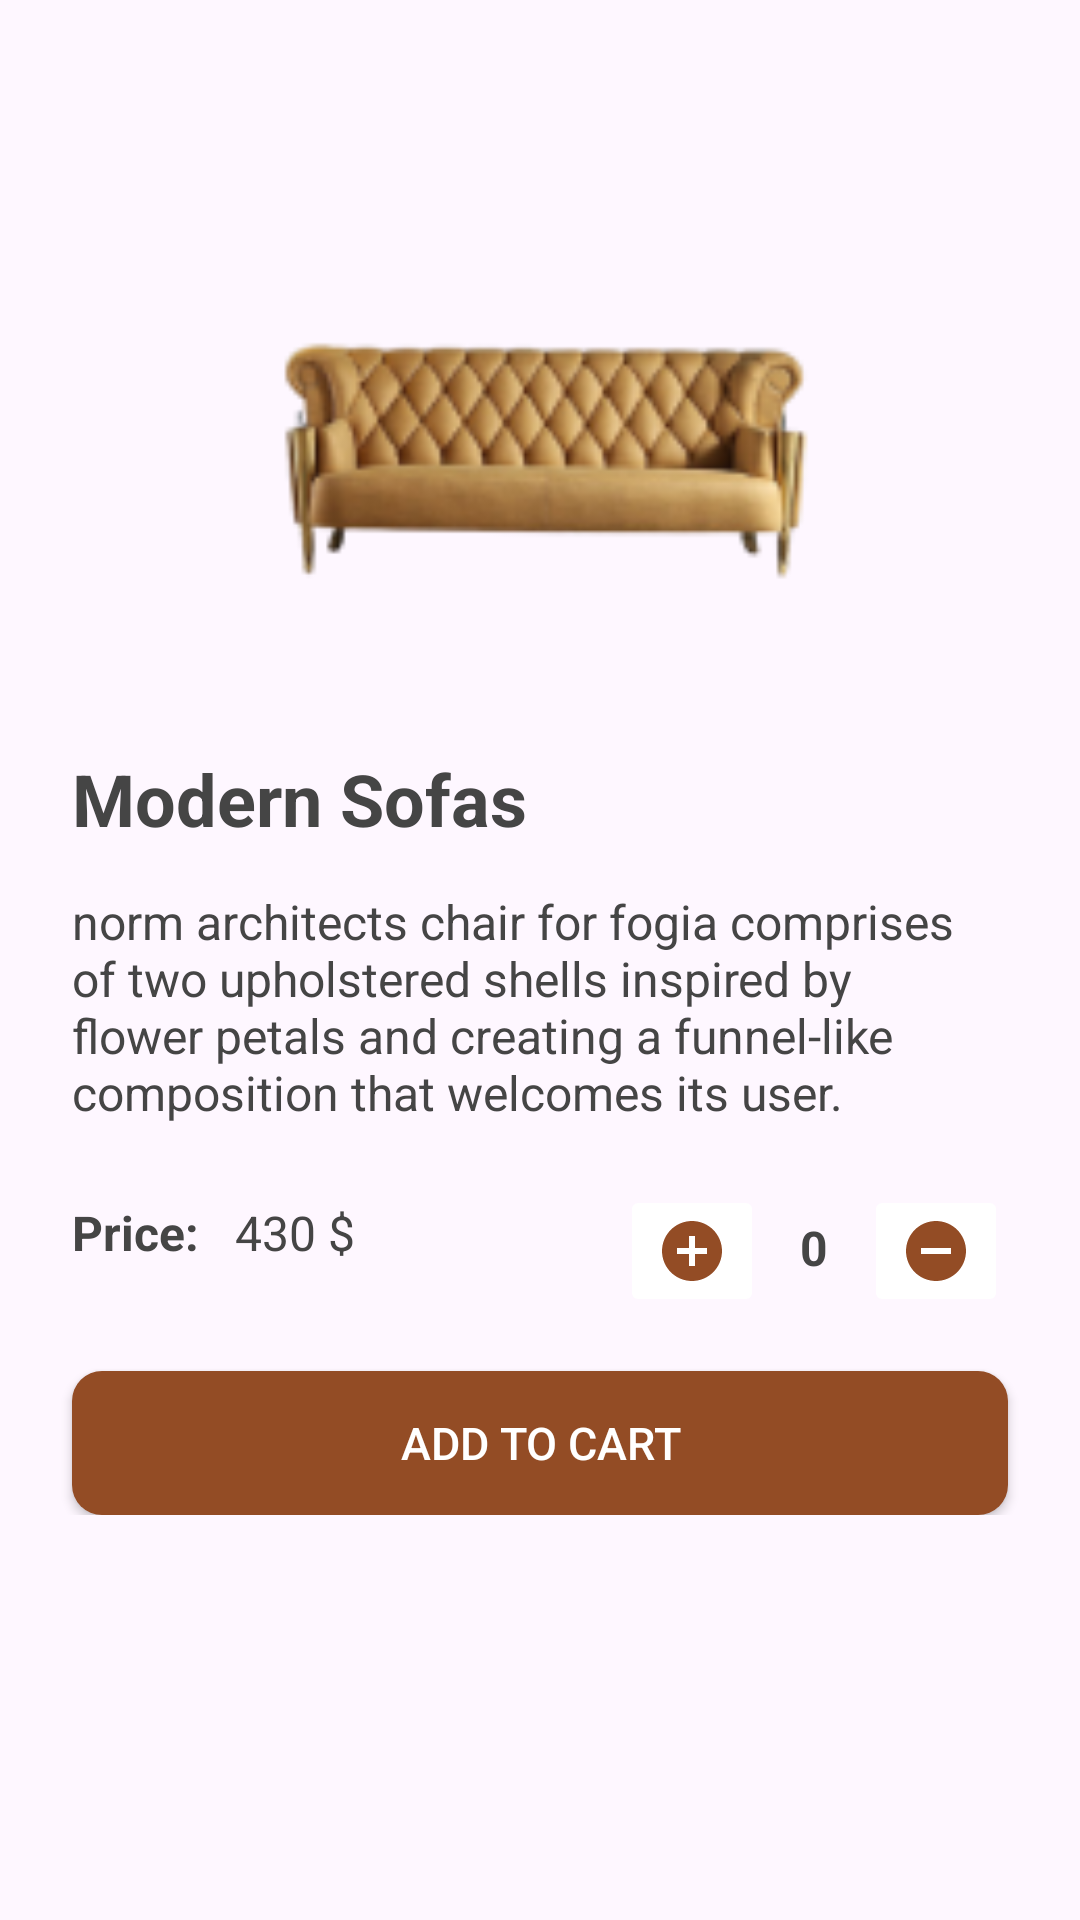

Where to tap for icons on this 1080px×1920px app screen, as (x,y):
add circle: (692,1251)
sub circle: (936,1251)
